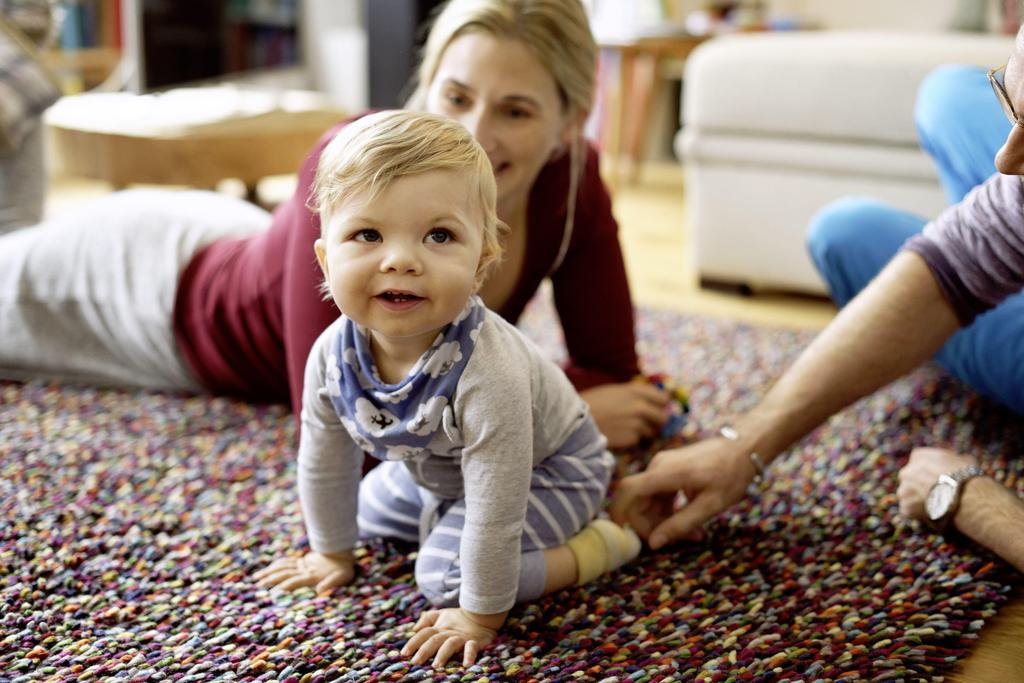child: (244, 106, 647, 661)
